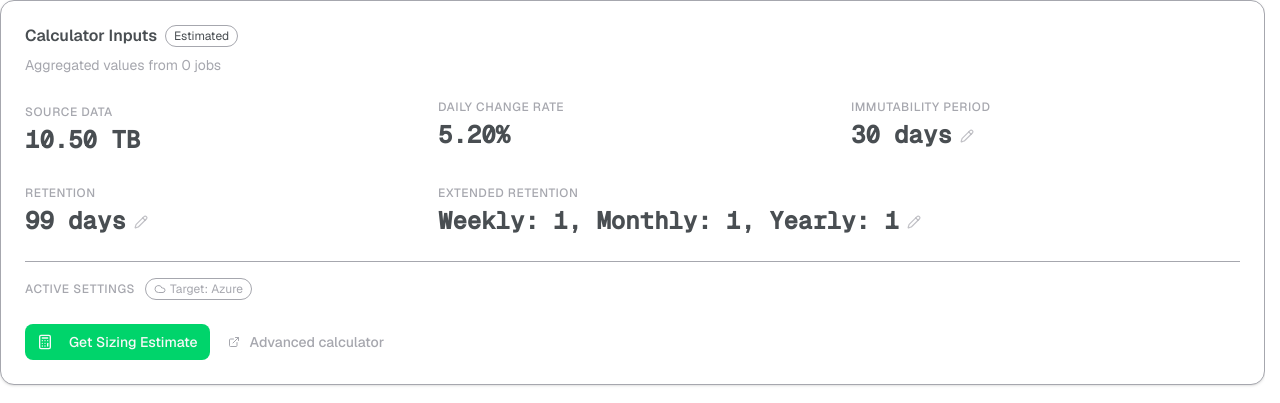
Test: CalculatorInputs › immutability period inline edit › confirm updates the displayed value and exits edit mode
The image size is (1280, 403).
Click the button named "edit immutability period" at (967, 136), box [960,129,974,143]
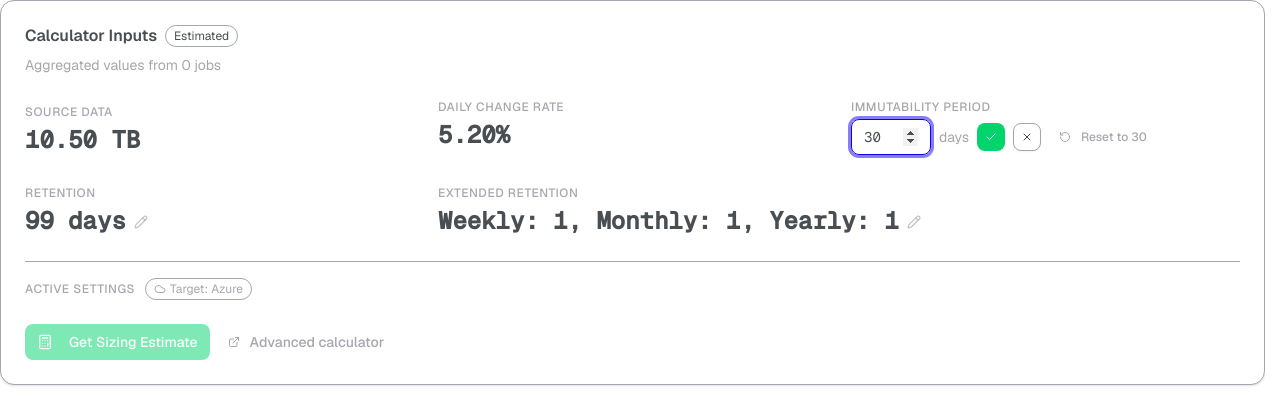
Replace the text in the number field with "14" at (891, 137), box [851,119,931,155]
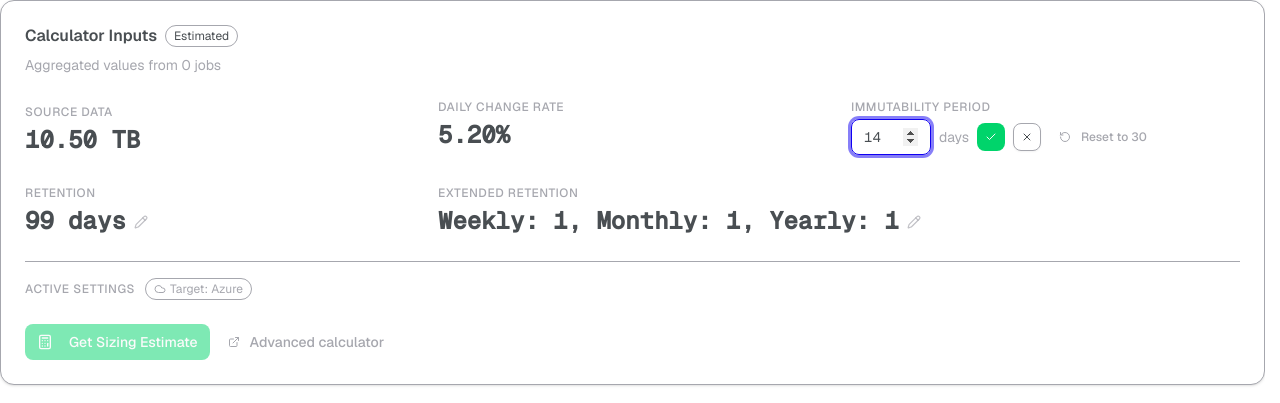
Click the button named "confirm immutability period" at (991, 137), box [977,123,1005,151]
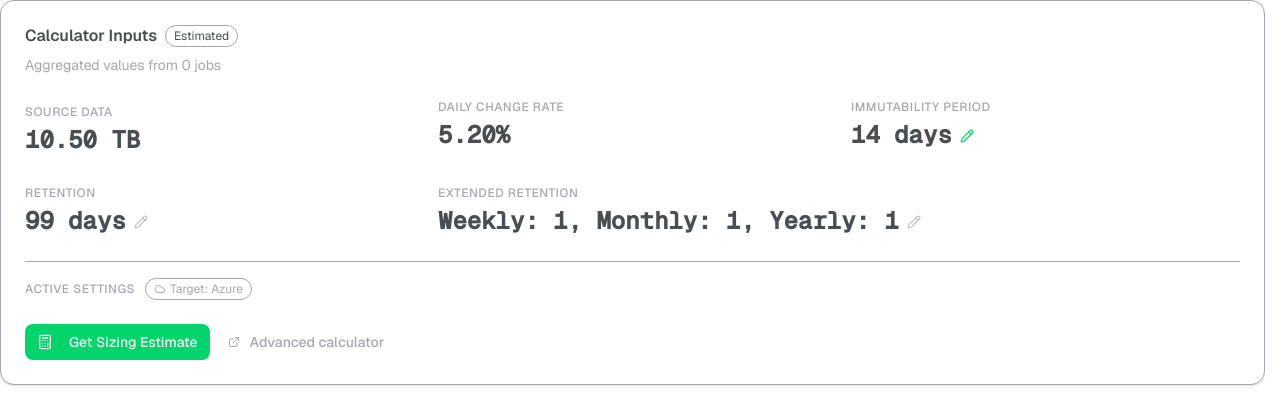
Result: the text "14 days" is shown at [851,119,952,151]
